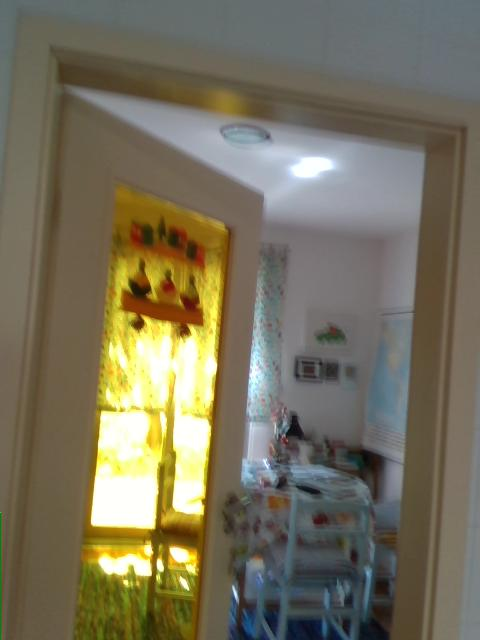semi_door: (3, 33, 471, 635)
